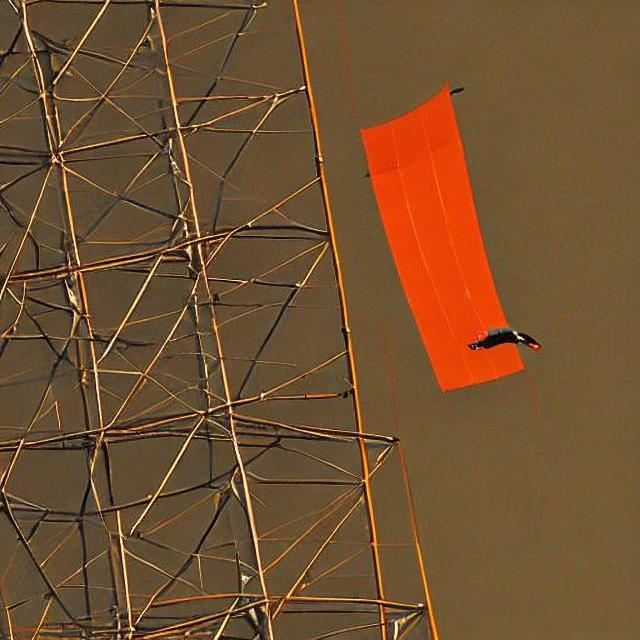floating object: (354, 77, 528, 394), (465, 326, 542, 354)
